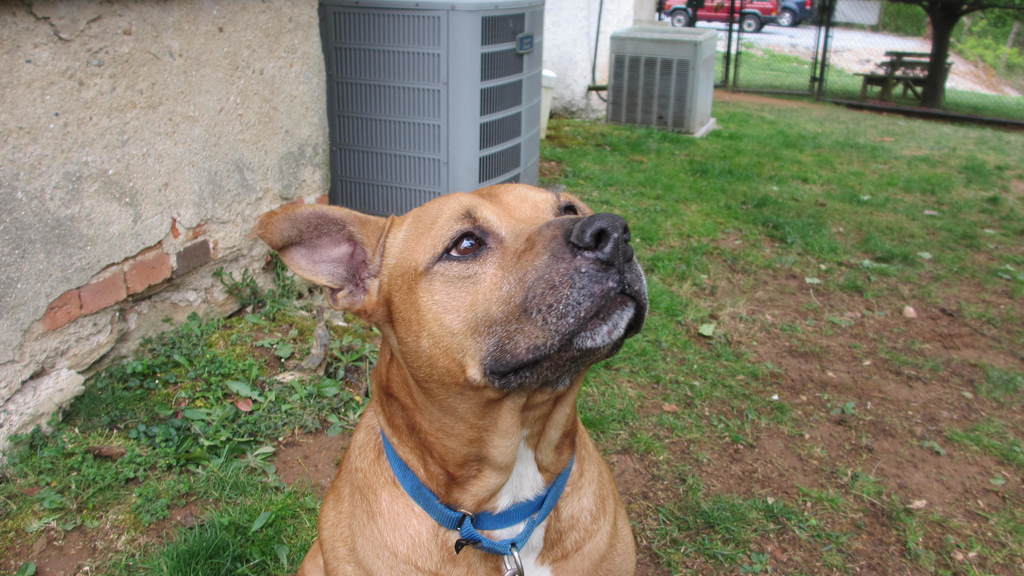Tree: (885, 0, 1023, 110)
